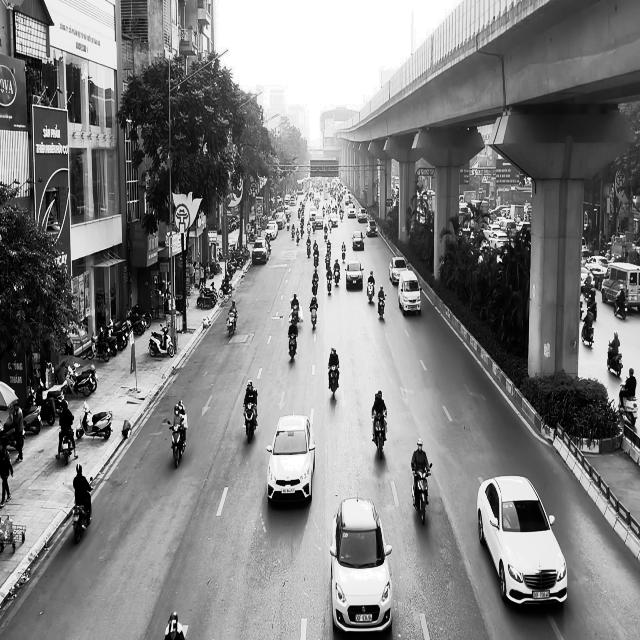car: (477, 474, 568, 606), (329, 493, 393, 634), (266, 413, 316, 505), (345, 260, 364, 290), (389, 256, 408, 284), (352, 230, 364, 249)
motorbike: (411, 463, 432, 524), (72, 491, 92, 543), (167, 420, 186, 468), (149, 322, 174, 358), (371, 411, 387, 459), (59, 426, 75, 464), (243, 403, 258, 443), (606, 341, 622, 377), (328, 364, 339, 396), (581, 321, 594, 347), (226, 311, 238, 337), (288, 332, 298, 362), (309, 299, 318, 328), (377, 294, 386, 321), (290, 306, 299, 326), (366, 280, 374, 302)
